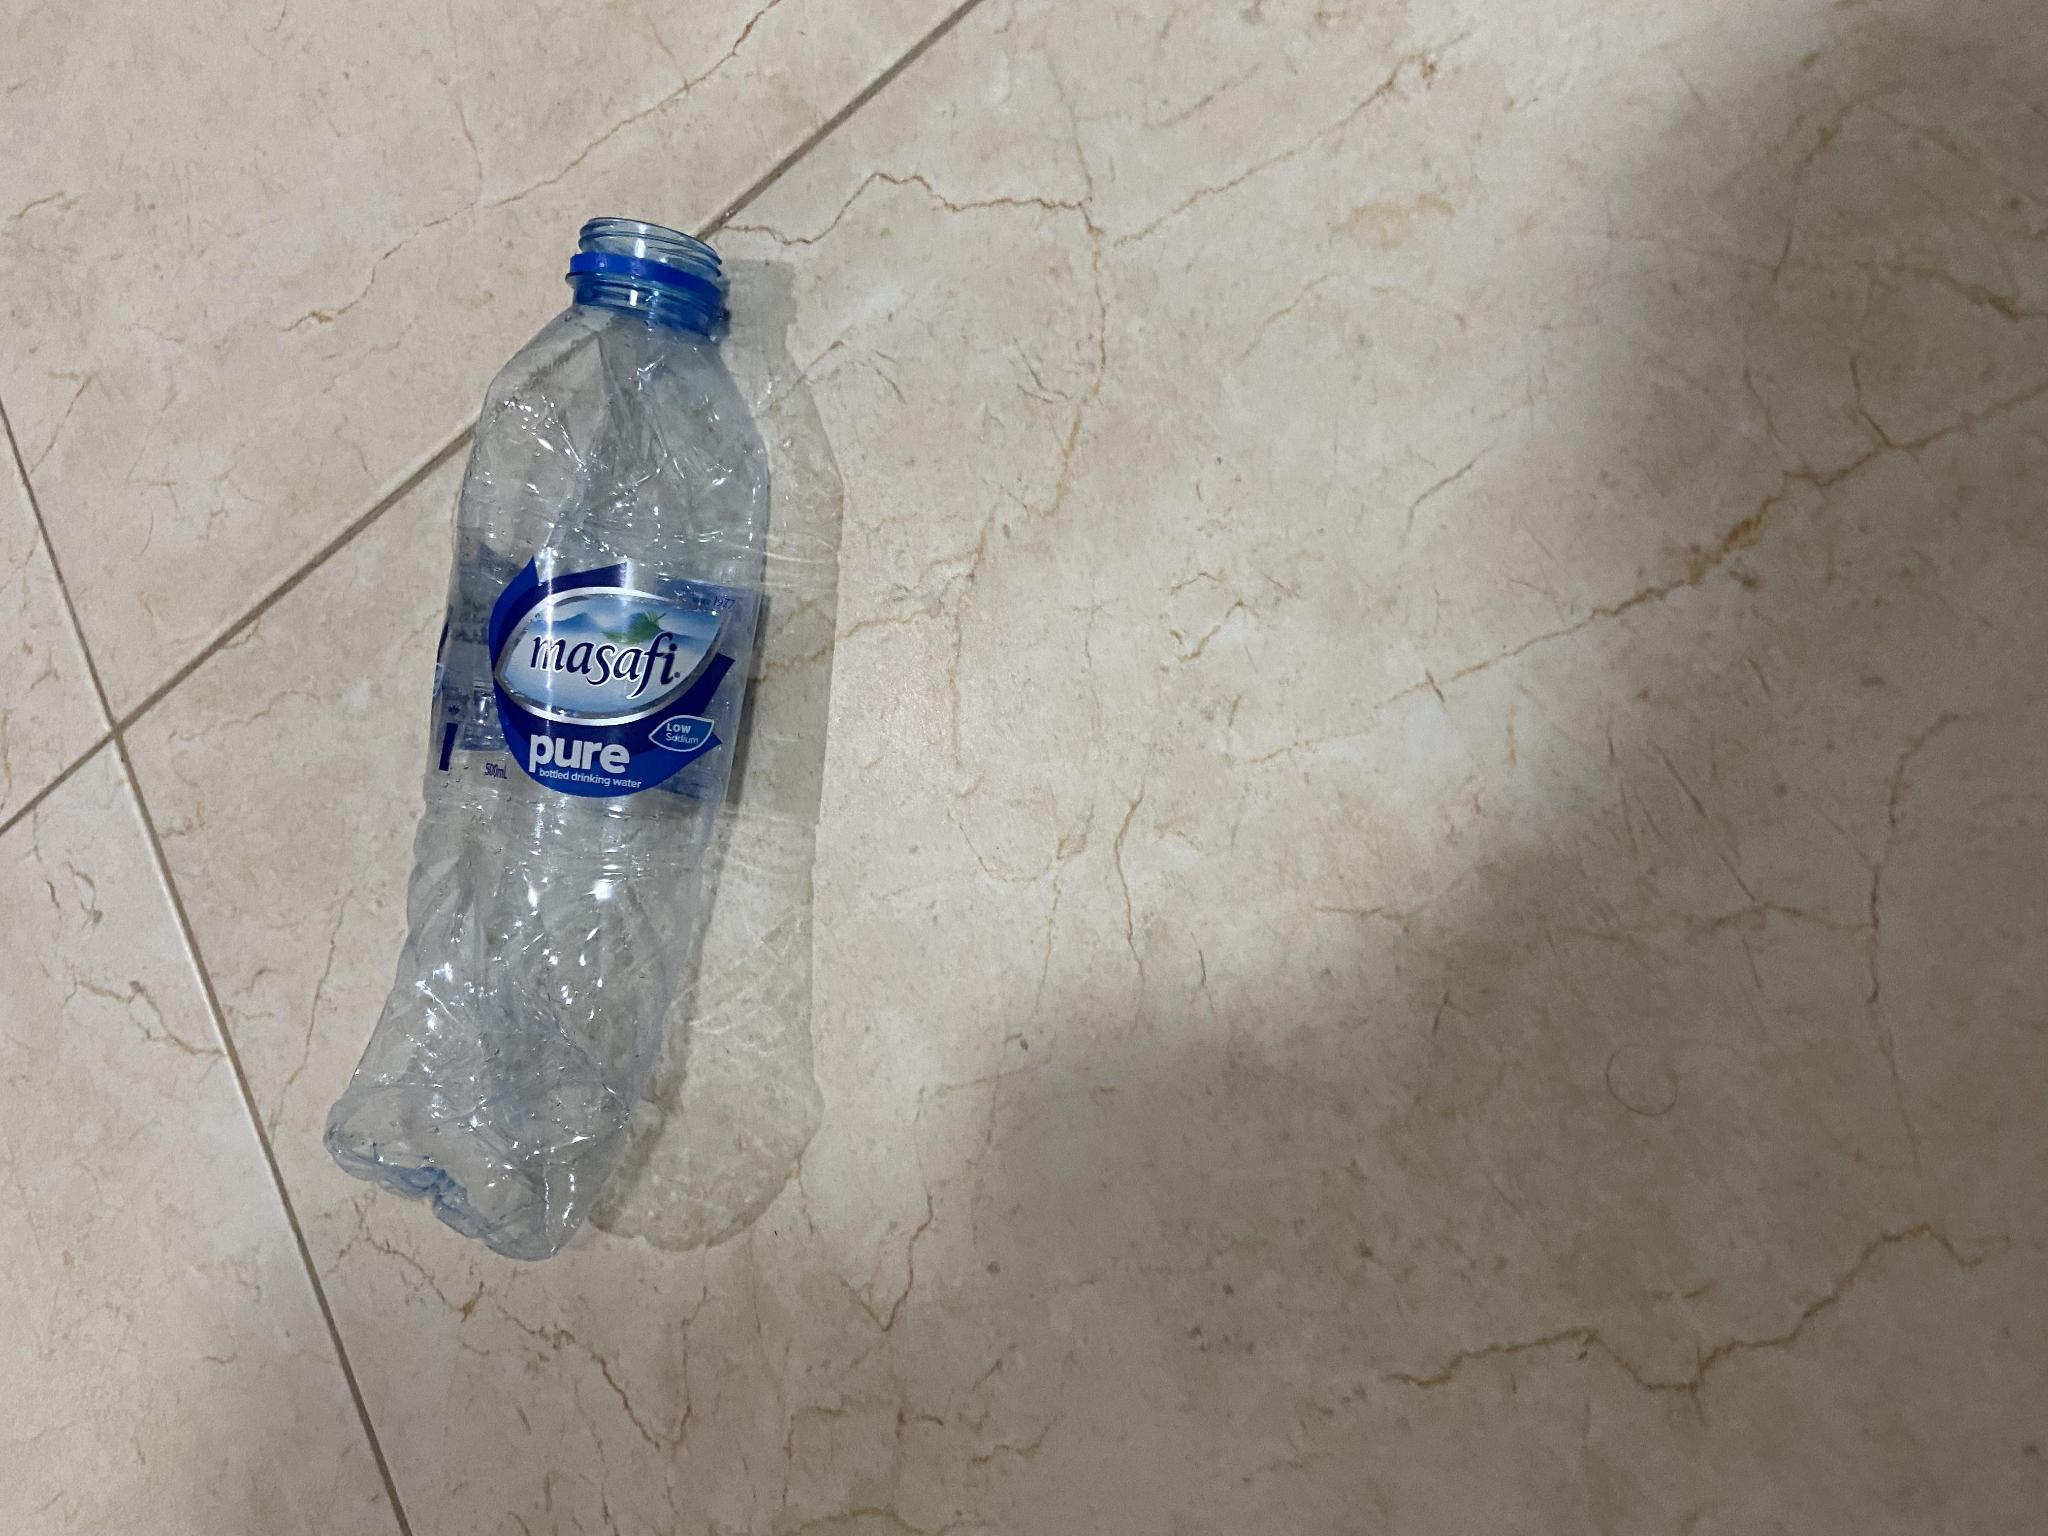bottle: (300, 200, 785, 1221)
